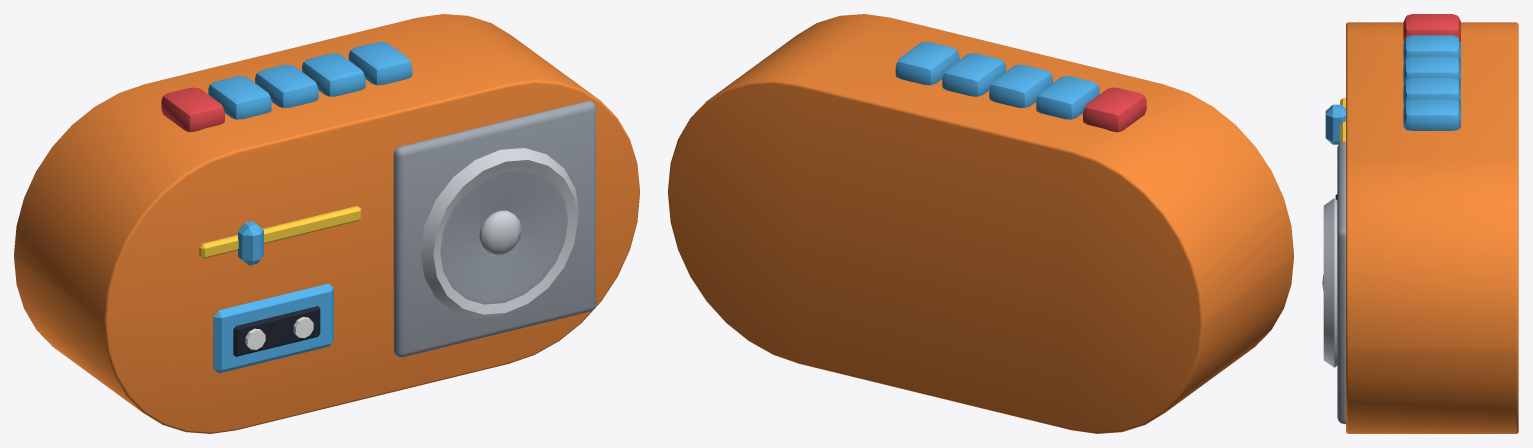
File: radio_portatil.glb
3 renders of one model, left to right at view 1: azimuth 30°, elevation 25°; view 2: azimuth 150°, elevation 25°; view 3: azimuth 270°, elevation 25°, orthographic. The views are drawn at different scales.
Visible parts, largest first — view 1: radio_portatil; view 2: radio_portatil; view 3: radio_portatil.
Boxes of the visible parts, x1,y1,x2,y2 form: radio_portatil: (14, 14, 639, 433); radio_portatil: (668, 14, 1293, 433); radio_portatil: (1322, 14, 1518, 433).
Bounding box in the file's own units: 0.4 × 0.213 × 0.1364.
Materials: 1 (1 with a texture image).
